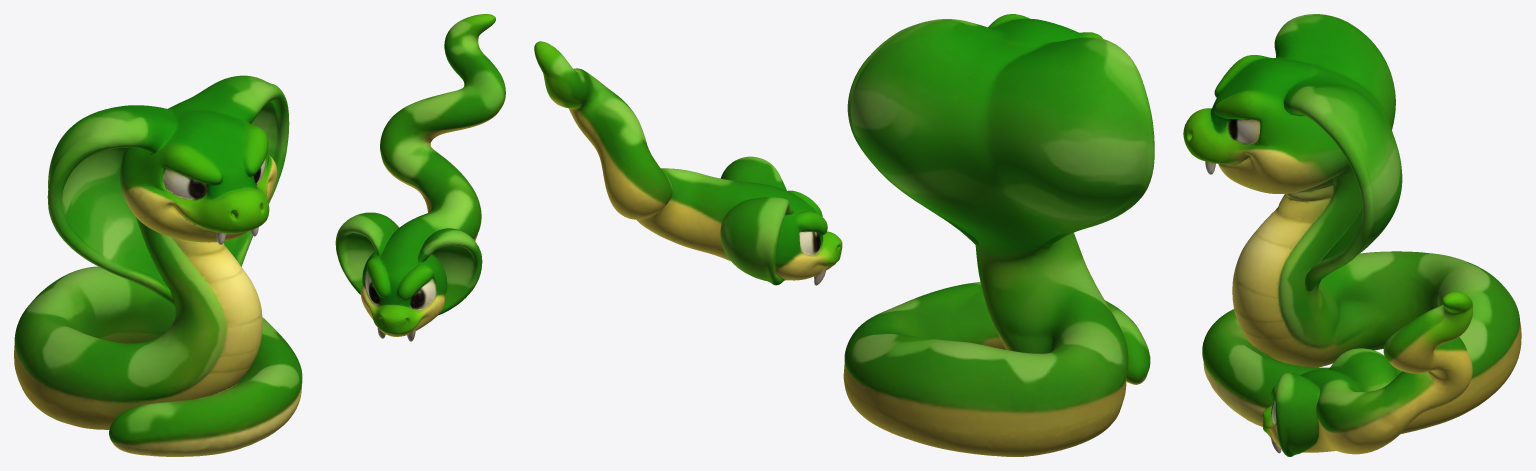
The model's file is Original-Snakes-TRELLIS2.glb.
3 renders of one model, left to right at view 1: azimuth 30°, elevation 25°; view 2: azimuth 150°, elevation 25°; view 3: azimuth 270°, elevation 25°, orthographic. The views are drawn at different scales.
Visible parts, largest first — view 1: world; view 2: world; view 3: world.
Boxes of the visible parts, x1,y1,x2,y2 form: world: (14, 14, 505, 456); world: (534, 14, 1154, 456); world: (1183, 14, 1521, 456).
Size of the model in its own units: 1 by 0.623 by 0.5619.
1 material, 1 textured.
